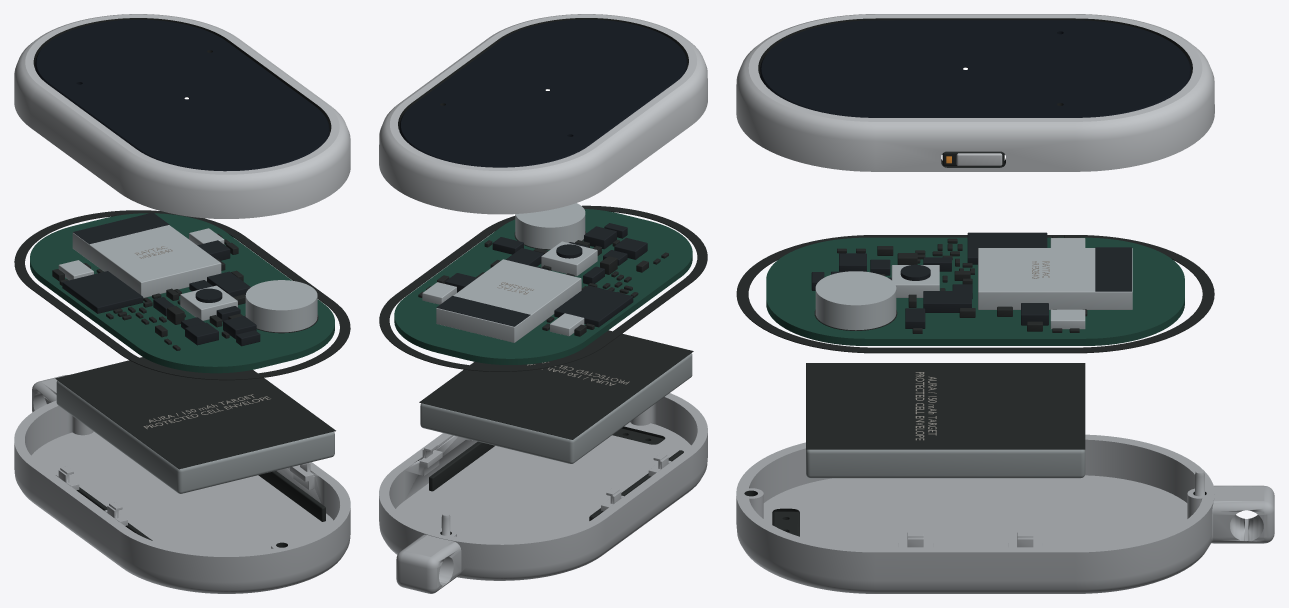
File: aura-exploded.glb
3 renders of one model, left to right at view 1: azimuth 30°, elevation 25°; view 2: azimuth 150°, elevation 25°; view 3: azimuth 270°, elevation 25°, orthographic. The views are drawn at different scales.
Visible parts, largest first — view 1: Housing_Back, Record_Button, Housing_Front, Battery_Insulator, PCB_Reference, Battery_Envelope, RF_Module_Envelope, Seam_Gasket, Haptic_Reference, Flash_Envelope, Antenna_Window, Battery_Locator.001 (+6 smaller); view 2: Housing_Back, Record_Button, Housing_Front, Battery_Insulator, PCB_Reference, Battery_Envelope, RF_Module_Envelope, Seam_Gasket, Haptic_Reference, Flash_Envelope, Antenna_Window, Record_Tact_Switch (+6 smaller); view 3: Housing_Back, Record_Button, Housing_Front, Battery_Insulator, PCB_Reference, Battery_Envelope, RF_Module_Envelope, Seam_Gasket, Haptic_Reference, Antenna_Window, Flash_Envelope, Record_Tact_Switch (+3 smaller).
Part boxes in pixels (x1=…): Housing_Back: x1=14, y1=375, x2=350, y2=593; Record_Button: x1=35, y1=19, x2=329, y2=171; Housing_Front: x1=14, y1=14, x2=350, y2=218; Battery_Insulator: x1=55, y1=357, x2=335, y2=469; PCB_Reference: x1=30, y1=213, x2=334, y2=373; Battery_Envelope: x1=56, y1=380, x2=334, y2=493; RF_Module_Envelope: x1=72, y1=225, x2=221, y2=297; Seam_Gasket: x1=14, y1=210, x2=350, y2=380; Haptic_Reference: x1=245, y1=280, x2=317, y2=332; Flash_Envelope: x1=62, y1=271, x2=143, y2=313; Antenna_Window: x1=73, y1=212, x2=169, y2=244; Battery_Locator.001: x1=258, y1=471, x2=325, y2=521; Housing_Back: x1=379, y1=393, x2=707, y2=593; Record_Button: x1=399, y1=19, x2=687, y2=167; Housing_Front: x1=379, y1=14, x2=707, y2=214; Battery_Insulator: x1=419, y1=330, x2=693, y2=439; PCB_Reference: x1=394, y1=209, x2=692, y2=364; Battery_Envelope: x1=420, y1=353, x2=692, y2=463; RF_Module_Envelope: x1=436, y1=259, x2=581, y2=342; Seam_Gasket: x1=379, y1=205, x2=707, y2=371; Haptic_Reference: x1=515, y1=203, x2=585, y2=249; Flash_Envelope: x1=554, y1=285, x2=633, y2=327; Antenna_Window: x1=436, y1=296, x2=530, y2=326; Record_Tact_Switch: x1=541, y1=241, x2=597, y2=276; Housing_Back: x1=736, y1=434, x2=1274, y2=593; Record_Button: x1=760, y1=20, x2=1190, y2=117; Housing_Front: x1=736, y1=14, x2=1214, y2=171; Battery_Insulator: x1=806, y1=363, x2=1085, y2=449; PCB_Reference: x1=766, y1=237, x2=1184, y2=345; Battery_Envelope: x1=806, y1=449, x2=1085, y2=478; RF_Module_Envelope: x1=978, y1=248, x2=1132, y2=309; Seam_Gasket: x1=736, y1=235, x2=1214, y2=353; Haptic_Reference: x1=815, y1=271, x2=896, y2=330; Antenna_Window: x1=1095, y1=247, x2=1131, y2=291; Flash_Envelope: x1=967, y1=232, x2=1047, y2=264; Record_Tact_Switch: x1=891, y1=265, x2=939, y2=297.
Bounding box in the file's own units: 0.0282 × 0.052 × 0.054.
